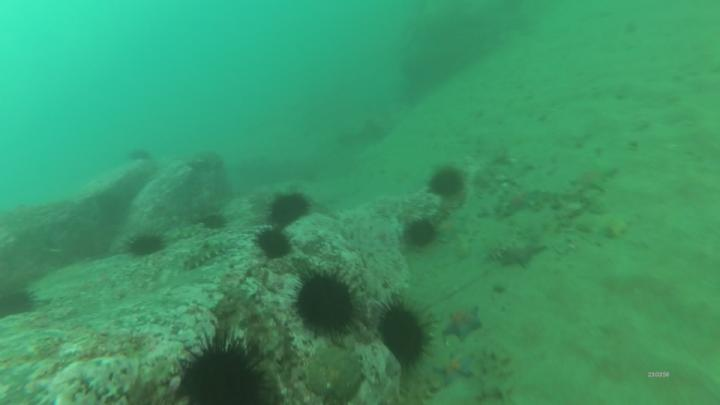echinus: (180, 350, 265, 405), (296, 276, 354, 334), (381, 305, 427, 362), (273, 194, 309, 228), (257, 230, 291, 259), (431, 170, 466, 198), (2, 295, 34, 320), (405, 221, 434, 246), (129, 237, 163, 255), (202, 214, 227, 230)
holothurian: (181, 238, 238, 270)
starfish: (502, 238, 544, 269), (436, 352, 475, 383), (445, 308, 482, 339), (573, 167, 616, 193), (501, 186, 537, 214)
